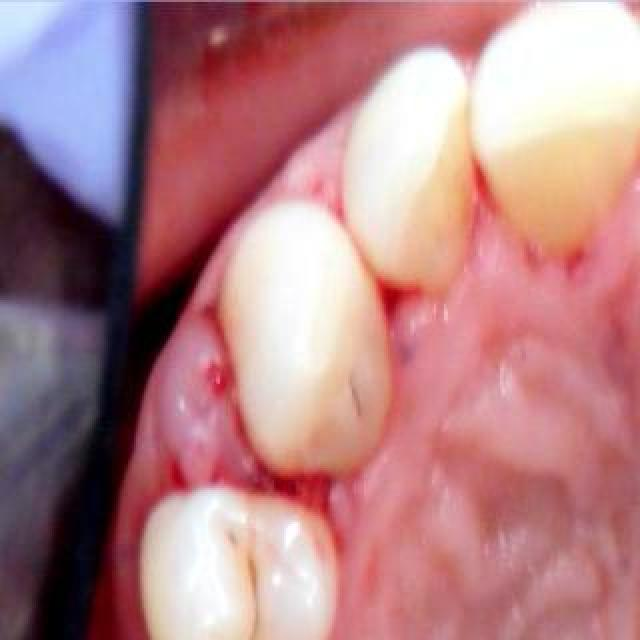cavities: (138, 488, 336, 640)
missing: (116, 632, 262, 640)
spacing: (180, 377, 318, 577)
